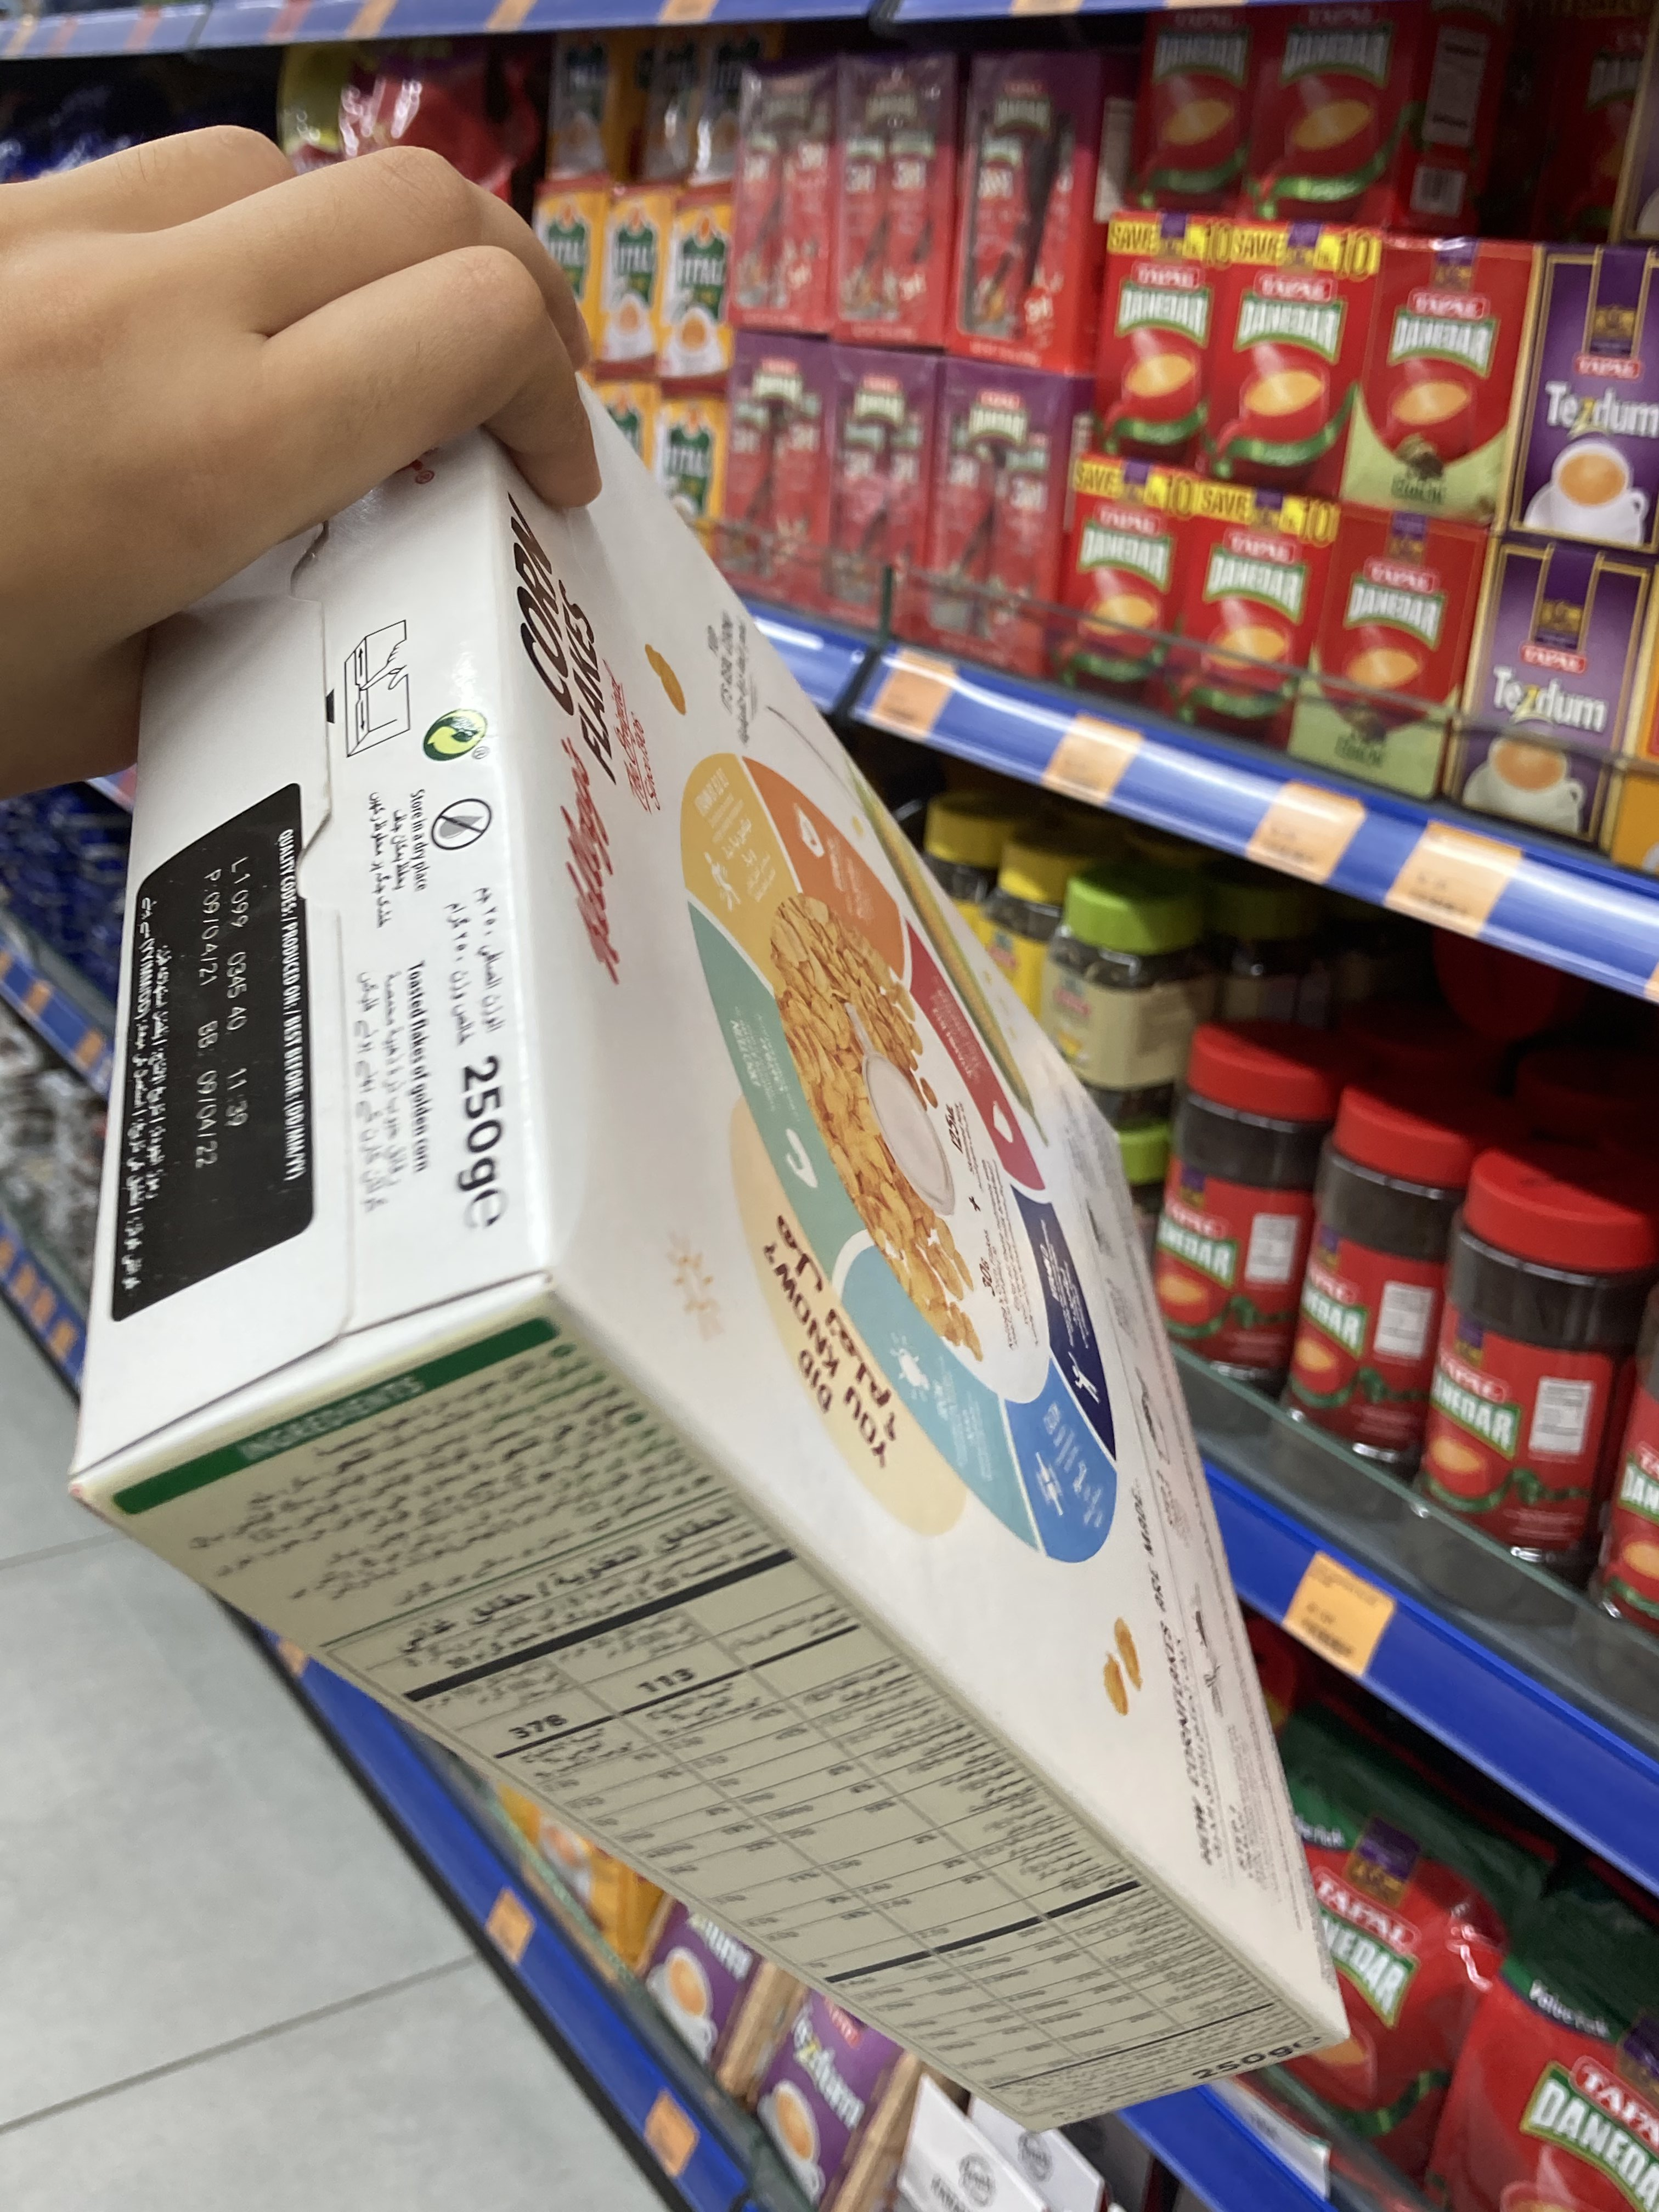Kellogg's Corn Flakes: (77, 472, 1352, 2127)
